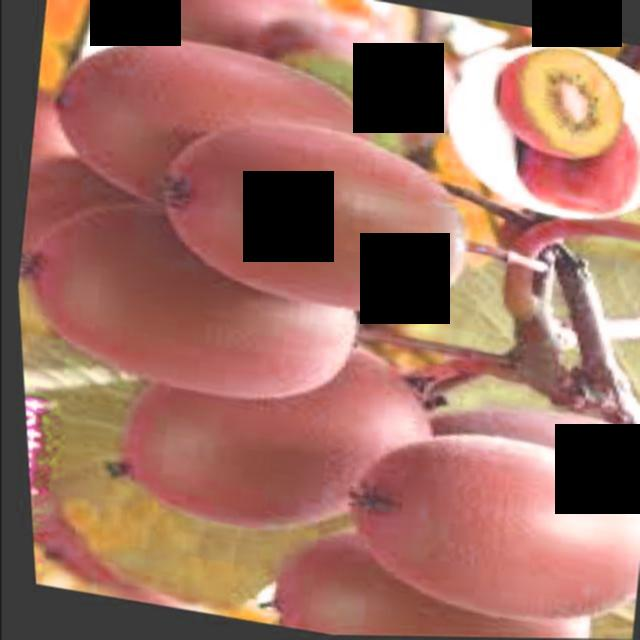kiwi: (103, 308, 453, 561), (18, 192, 386, 422), (42, 19, 401, 241), (146, 101, 488, 332), (333, 414, 640, 640), (265, 517, 599, 640)
